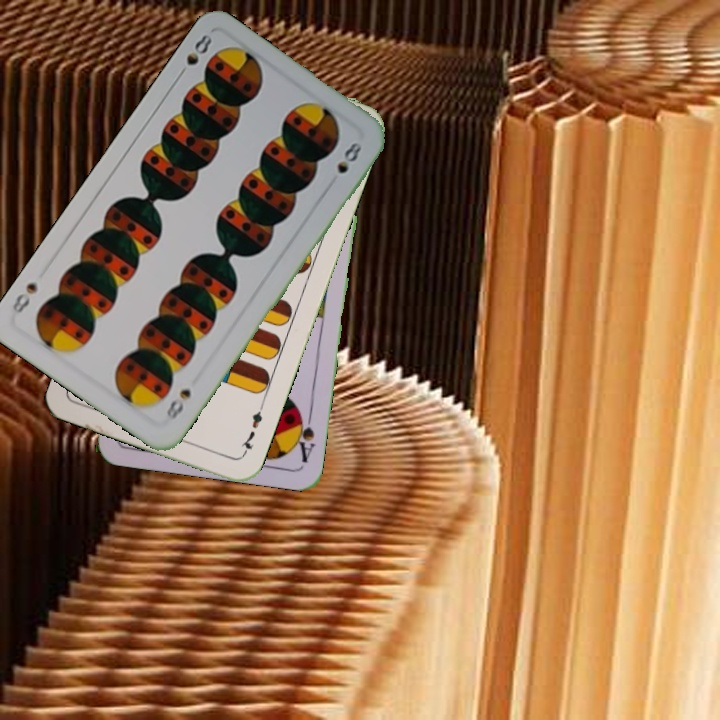E7: (237, 402, 266, 458)
S8: (173, 30, 215, 81), (162, 384, 194, 427)
SA: (290, 406, 318, 465)
